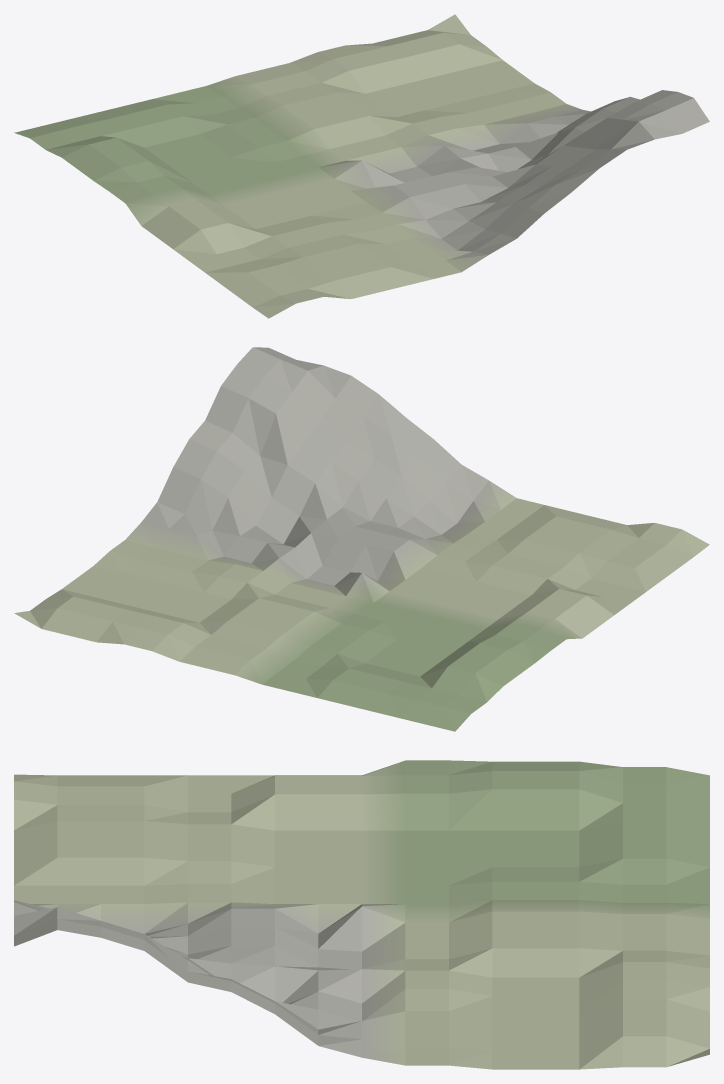
3 views of the same model, one above another, from view 1: azimuth 30°, elevation 25°; view 2: azimuth 150°, elevation 25°; view 3: azimuth 270°, elevation 25° (orthographic). The views are drawn at different scales.
Size of the model in its own units: 32 by 7.76 by 32.
